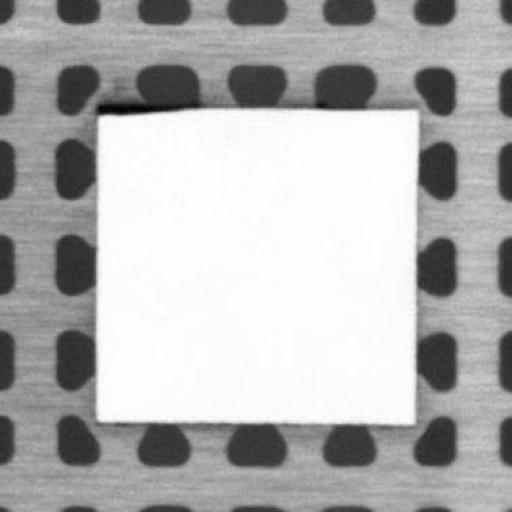DIE_BROKEN: (94, 97, 195, 116)
